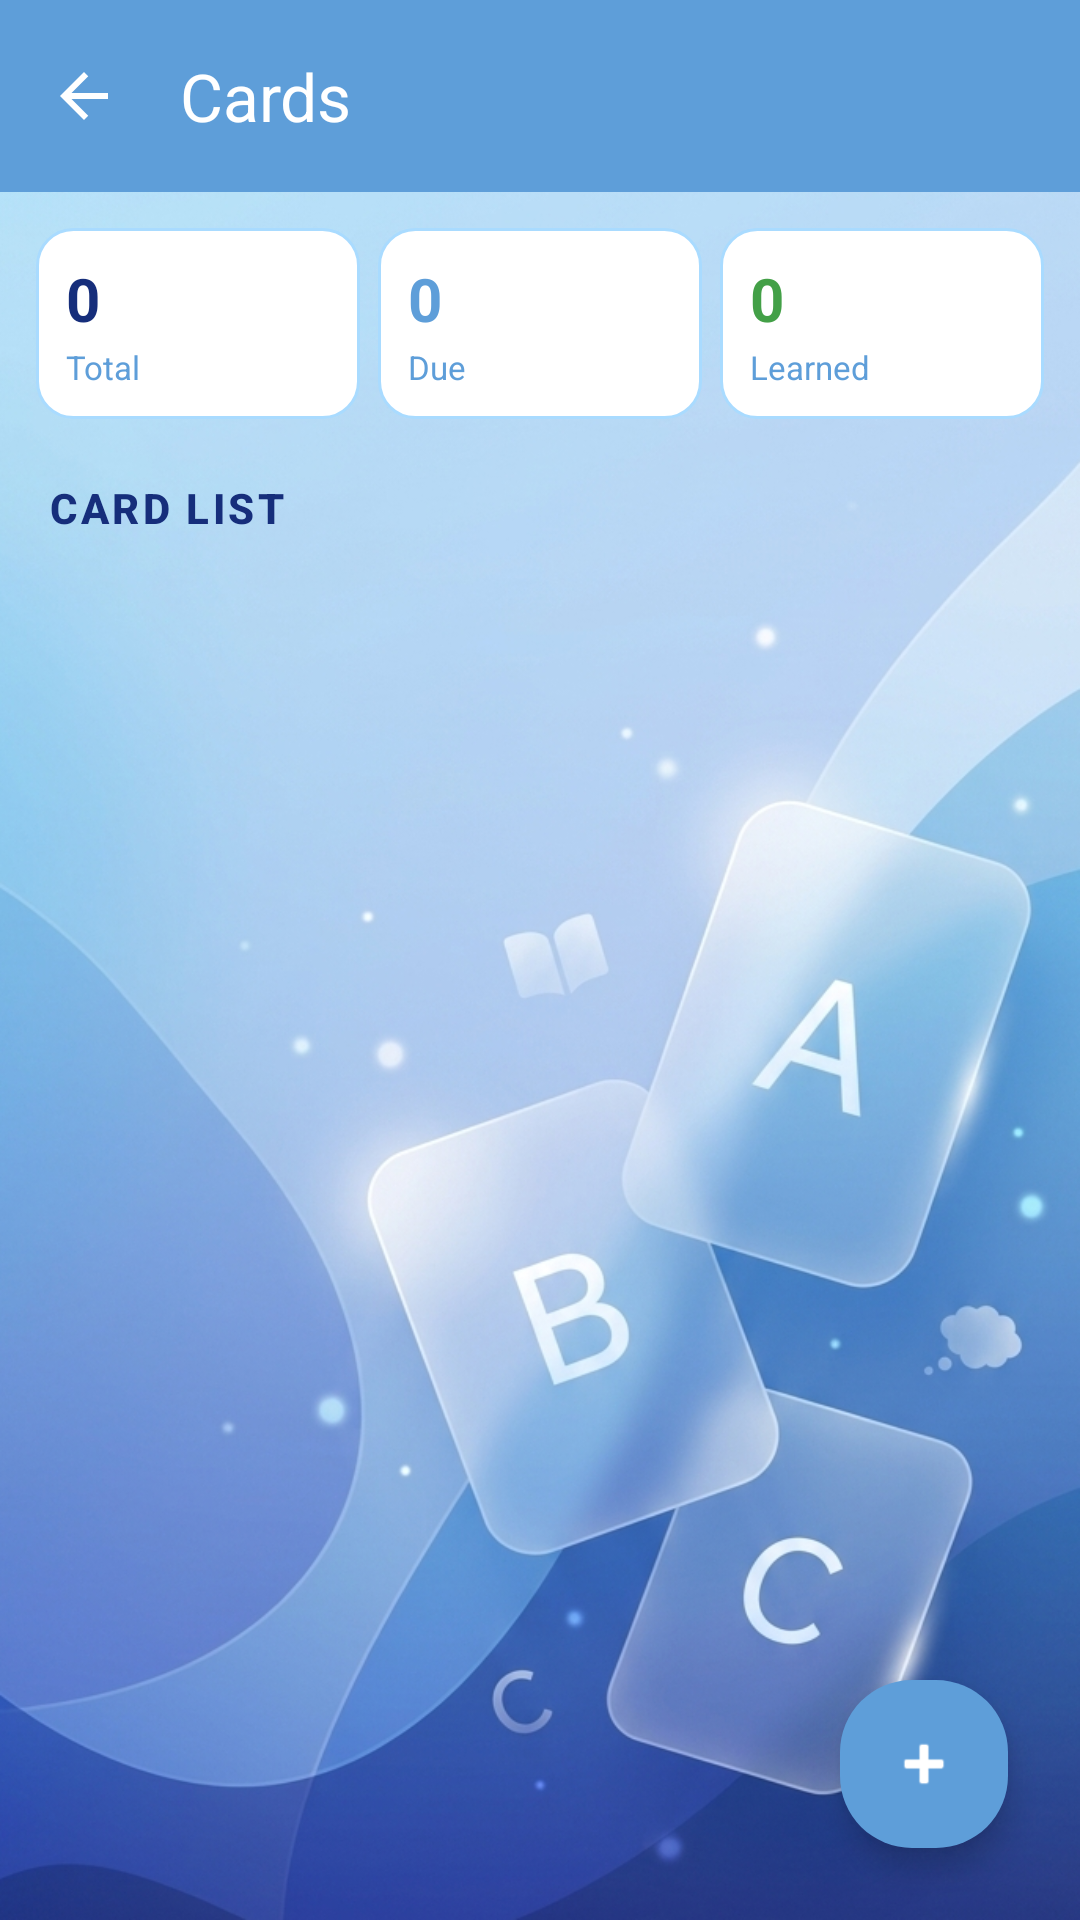

Icon click points for this 1080w x 1920h phone screenshot, format [x,y]:
Add card: [924,1764]
